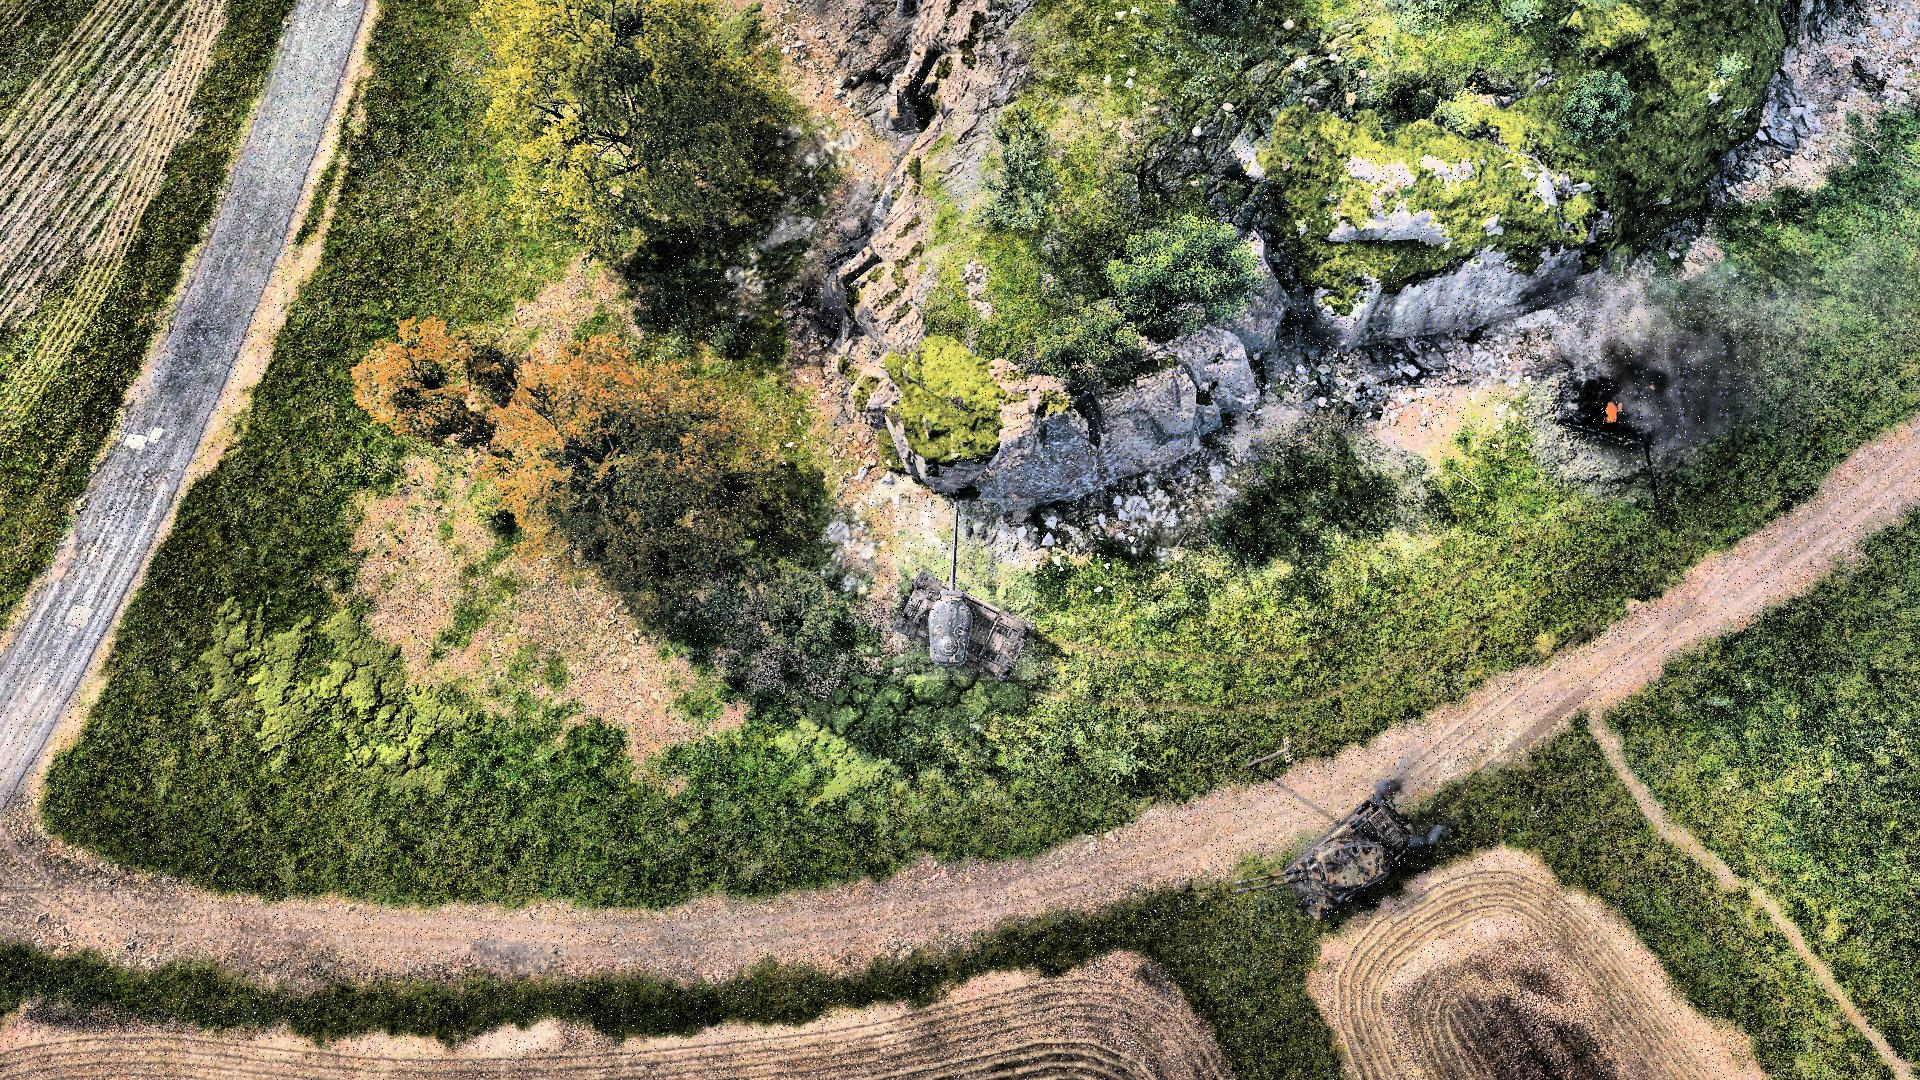military-vehicle: (893, 498, 1035, 680), (1232, 795, 1420, 918)
